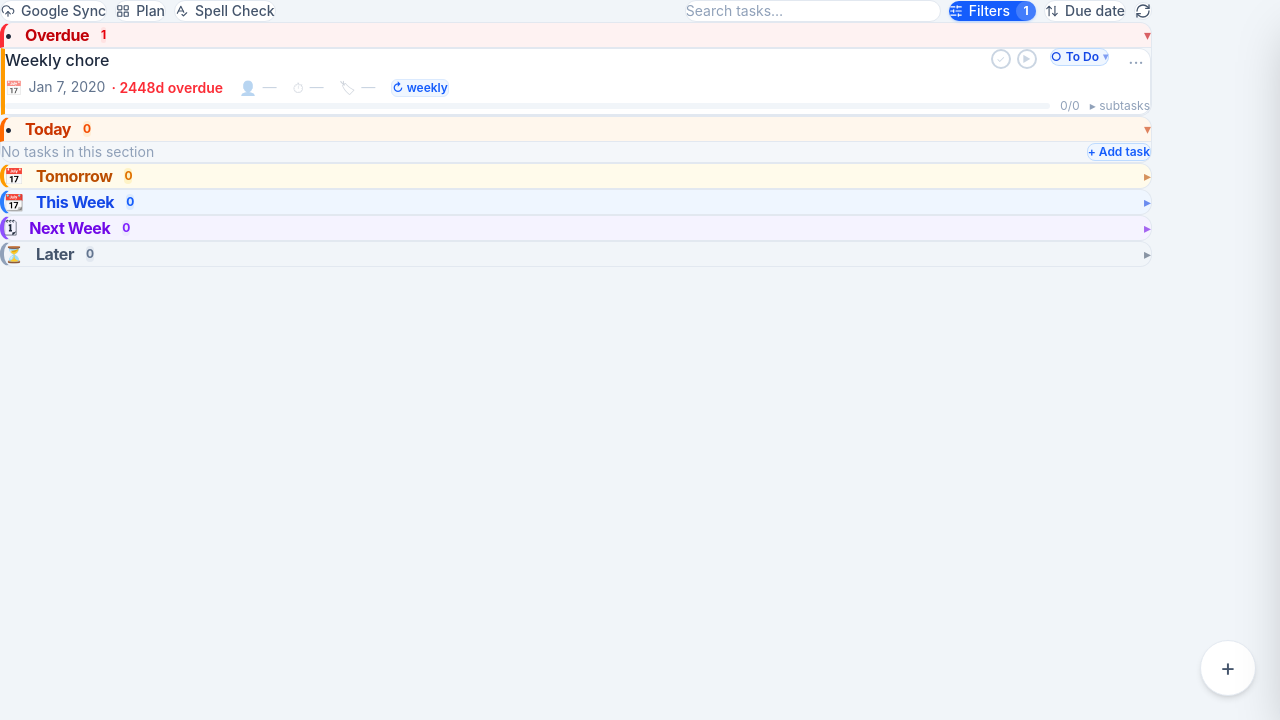
Test: TaskList — edit task › opens the edit panel when Edit is selected from the overflow menu
The image size is (1280, 720).
Expected: the text "Weekly chore" is shown, [5,49,109,71]
Click the button titled "More actions": (1136, 63) [1122,49,1150,77]
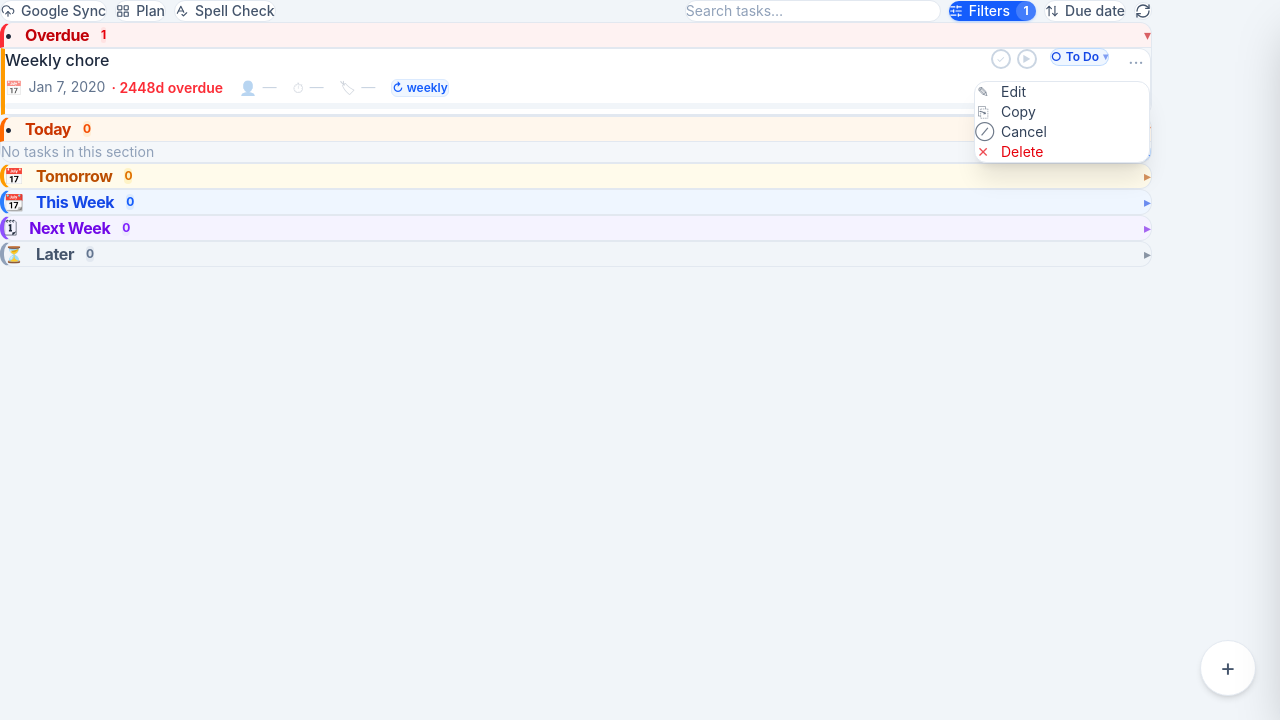
Click the menu item "✎ Edit": (1062, 92) [975,82,1149,102]
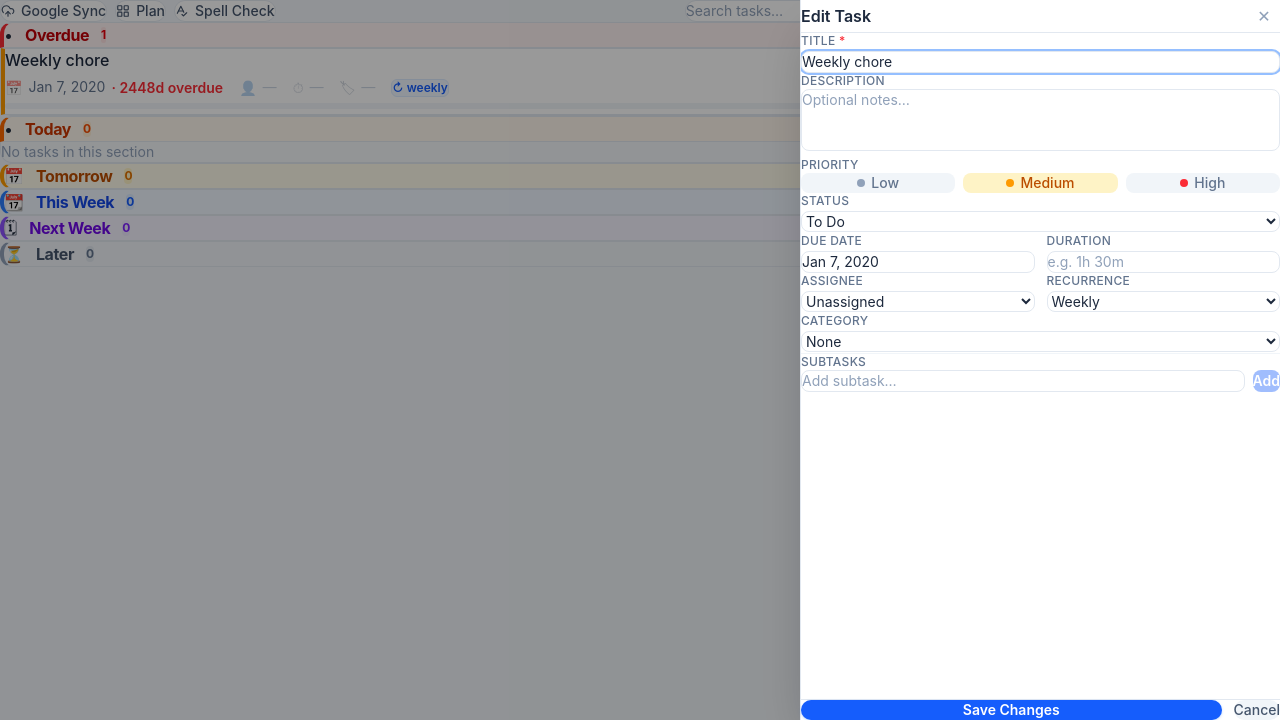
Expected: the heading "Edit Task" is shown, [801,4,871,28]
Expected: the field showing "Weekly chore" is shown, [801,51,1279,73]
